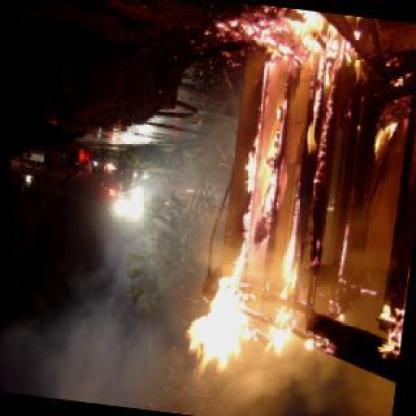Fire: (194, 0, 416, 384)
Smoke: (8, 114, 187, 398)
